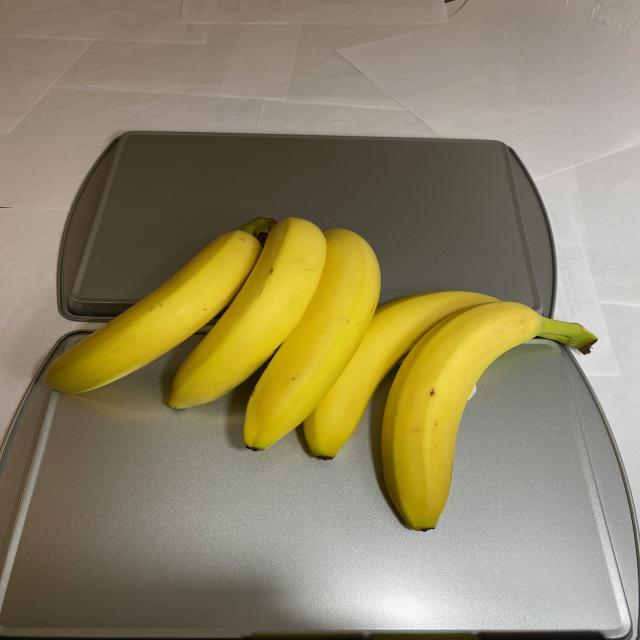banana: (42, 214, 592, 532)
